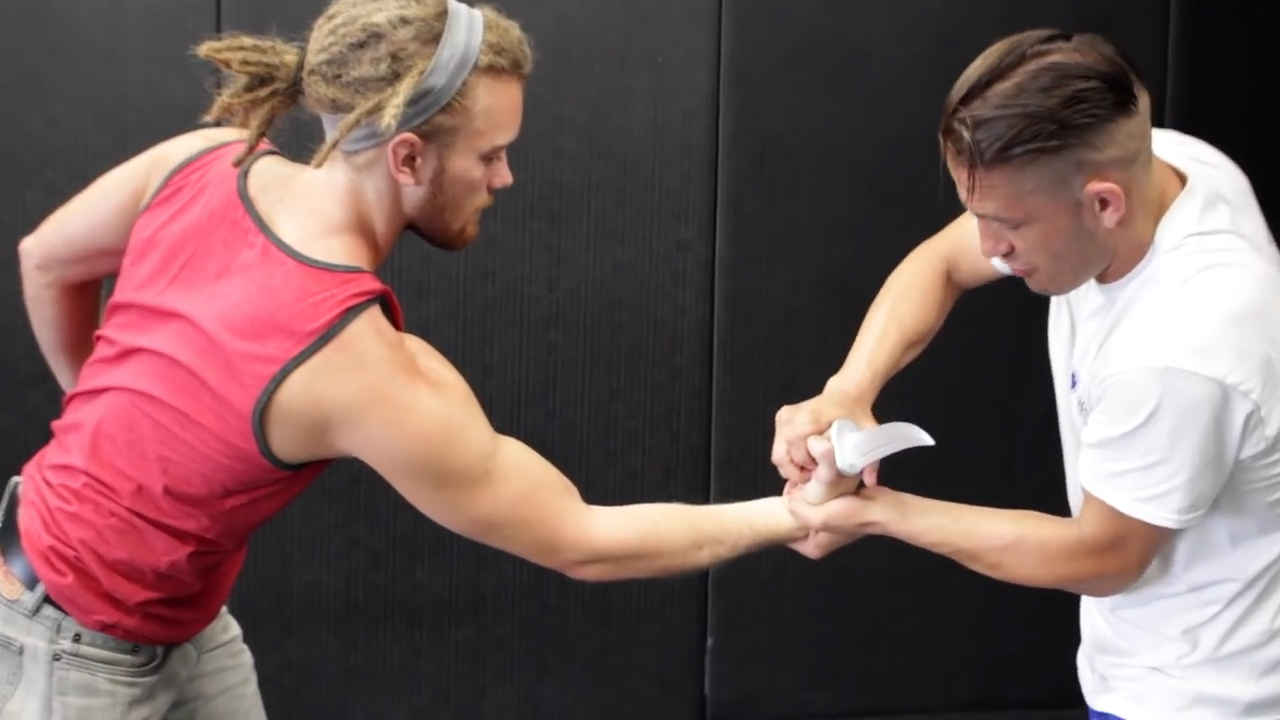knife: (776, 404, 951, 494)
